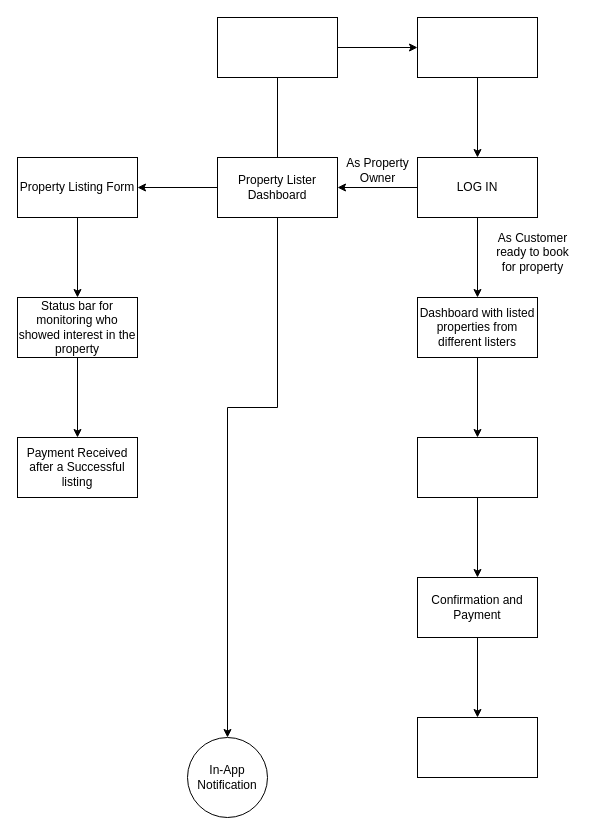
The diagram is 600 pixels wide and 835 high, and some of its shapes have lost their labels. The centre of each missing label's shape, as x and y in pixels:
"Booking Form" goes at point 477,467.
"Review the Property" goes at point 477,747.
"Sign Up" goes at point 477,47.
"User" goes at point 277,47.
